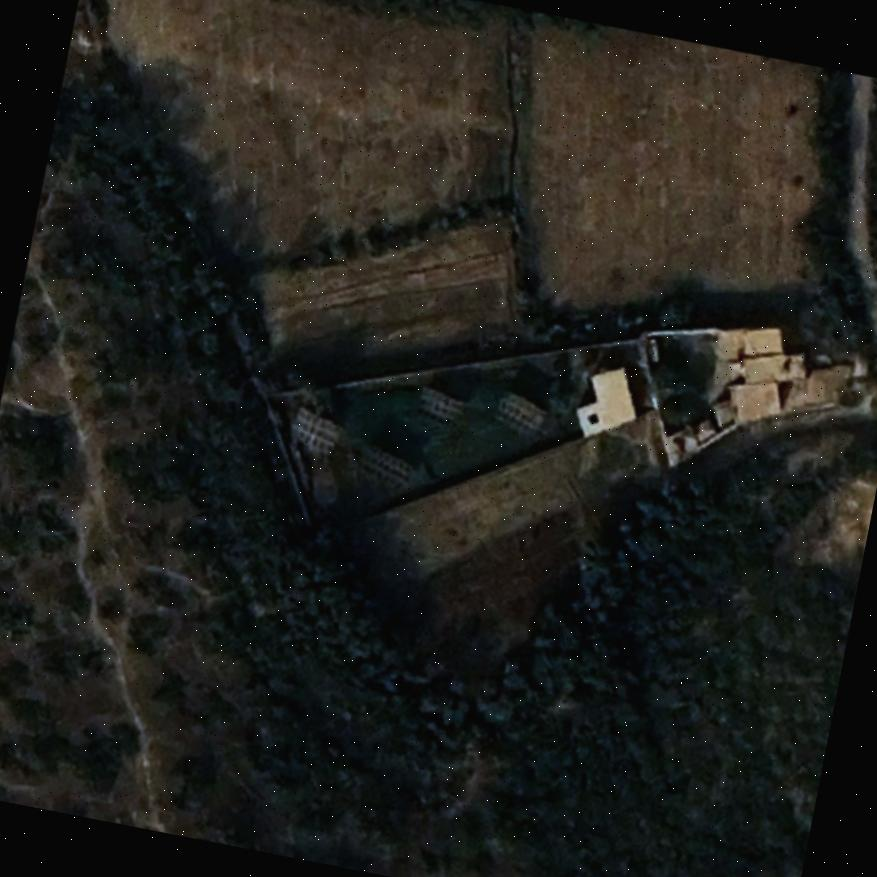Solarpanel: (355, 438, 417, 489), (288, 403, 346, 456), (490, 387, 550, 436), (414, 382, 464, 425)
